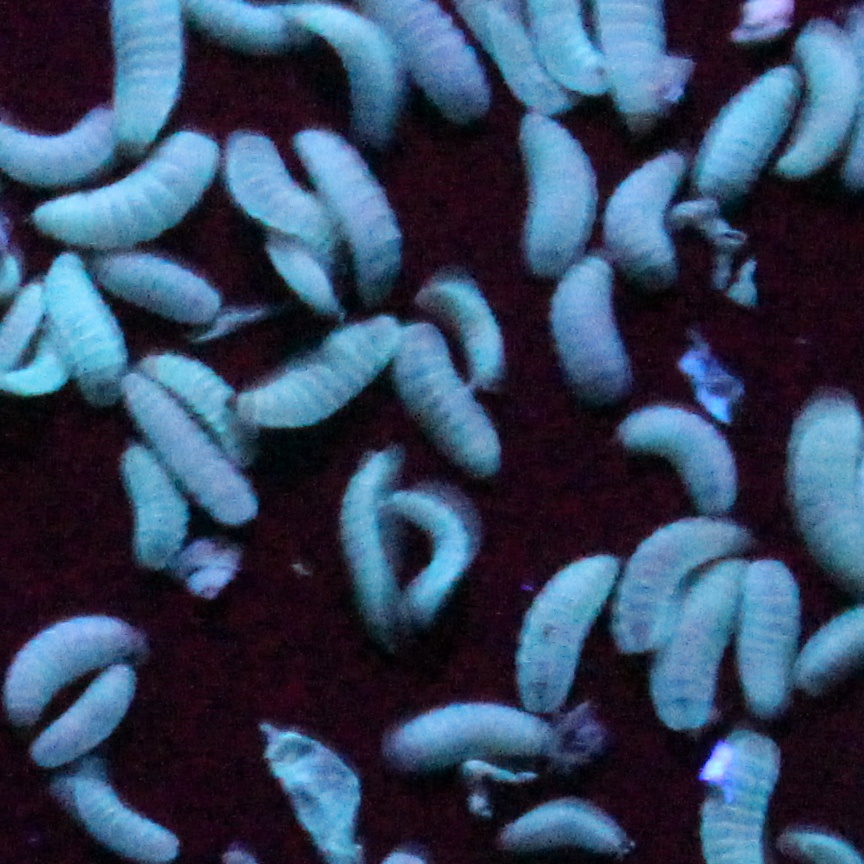larve: (110, 356, 264, 526), (294, 124, 423, 285), (230, 317, 401, 433), (32, 140, 210, 249), (389, 312, 505, 474), (619, 515, 746, 646), (651, 553, 746, 724), (519, 553, 619, 712), (619, 401, 744, 521), (512, 108, 598, 278), (221, 126, 337, 251), (1, 619, 139, 719), (769, 21, 862, 162), (42, 256, 126, 401), (385, 694, 562, 760), (385, 487, 469, 621), (64, 767, 185, 860), (553, 246, 630, 392), (732, 546, 796, 717), (698, 74, 789, 192), (37, 665, 132, 771), (153, 353, 244, 462), (610, 146, 689, 271), (435, 276, 512, 394), (507, 792, 632, 860), (348, 446, 396, 617), (101, 258, 228, 315), (117, 446, 180, 558), (273, 246, 335, 310), (23, 337, 55, 410)
